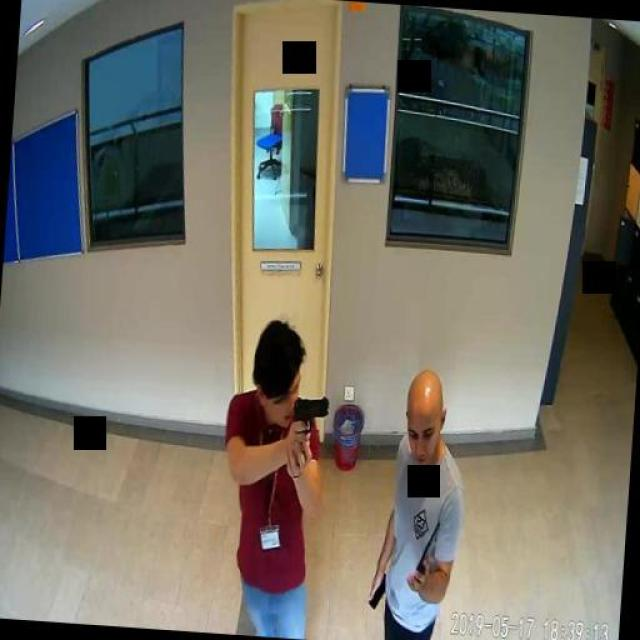gun: (288, 394, 328, 454)
